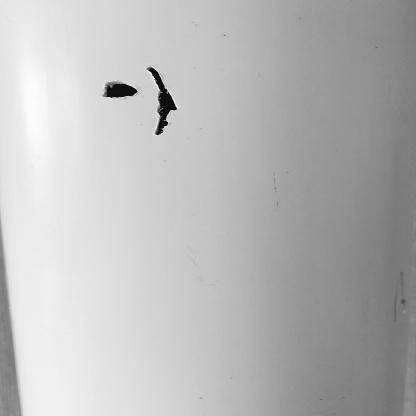kongdong: (141, 54, 186, 137), (99, 74, 153, 108)
